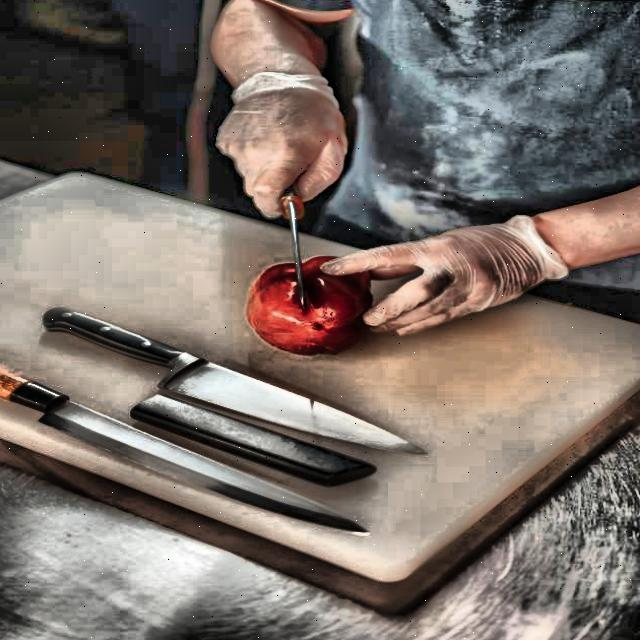knife: (0, 356, 374, 538), (44, 305, 434, 461), (269, 170, 315, 312)
